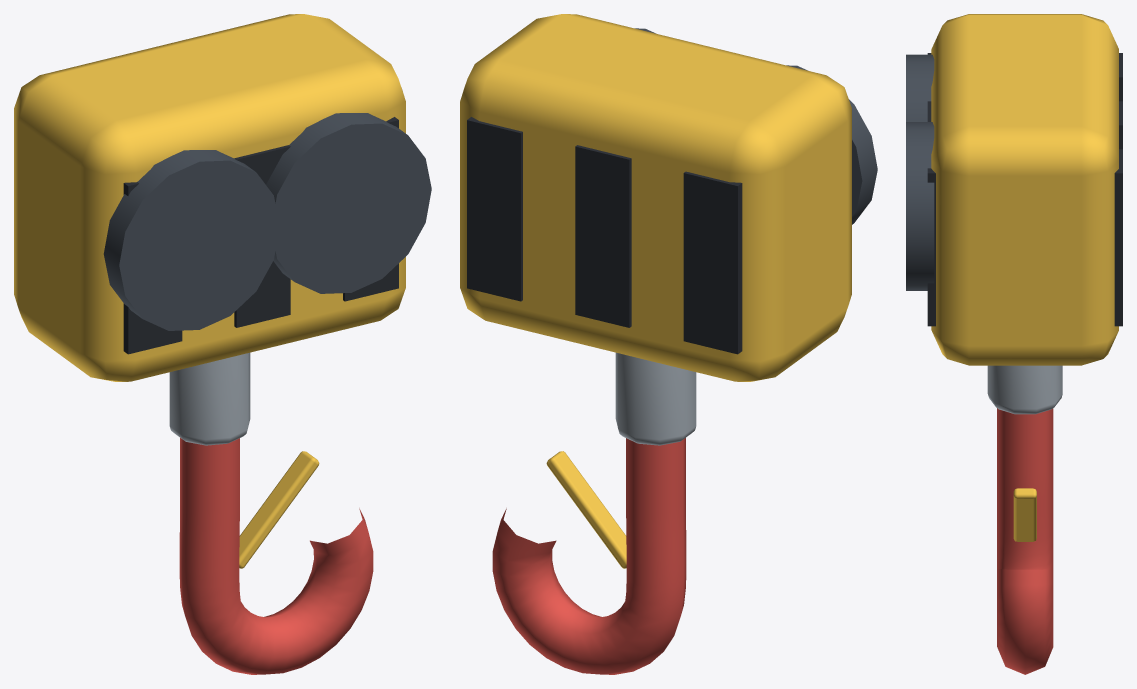
The model's file is ponte_gancho.glb.
3 views of the same model, side by side, from view 1: azimuth 30°, elevation 25°; view 2: azimuth 150°, elevation 25°; view 3: azimuth 270°, elevation 25° (orthographic). The views are drawn at different scales.
Parts seen in each view (by area): view 1: carcaca, polia (×2), gancho, pescoco, faixa (×3), trava; view 2: carcaca, faixa (×3), gancho, pescoco, trava, polia; view 3: carcaca, gancho, polia (×2), pescoco, faixa, trava.
Part boxes in pixels (<box>): carcaca: <box>14,14,405,381</box>; polia (×2): <box>103,113,431,330</box>; gancho: <box>179,438,373,674</box>; pescoco: <box>169,352,250,445</box>; faixa (×3): <box>123,117,398,354</box>; trava: <box>239,451,319,568</box>; carcaca: <box>460,14,851,381</box>; faixa (×3): <box>467,117,742,354</box>; gancho: <box>492,438,686,674</box>; pescoco: <box>615,352,696,445</box>; trava: <box>546,451,626,568</box>; polia: <box>786,65,877,224</box>; carcaca: <box>931,14,1118,365</box>; gancho: <box>997,408,1053,674</box>; polia (×2): <box>906,54,934,290</box>; pescoco: <box>987,365,1062,414</box>; faixa: <box>927,149,1122,326</box>; trava: <box>1013,488,1036,541</box>.
Bounding box in the file's own units: 0.36 × 0.6648 × 0.231.
